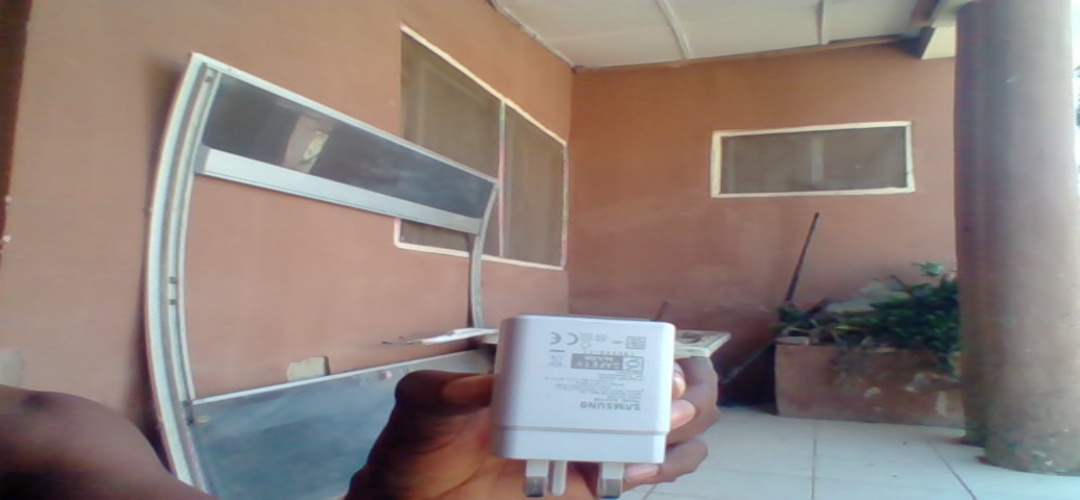phone_charger: (490, 315, 674, 498)
